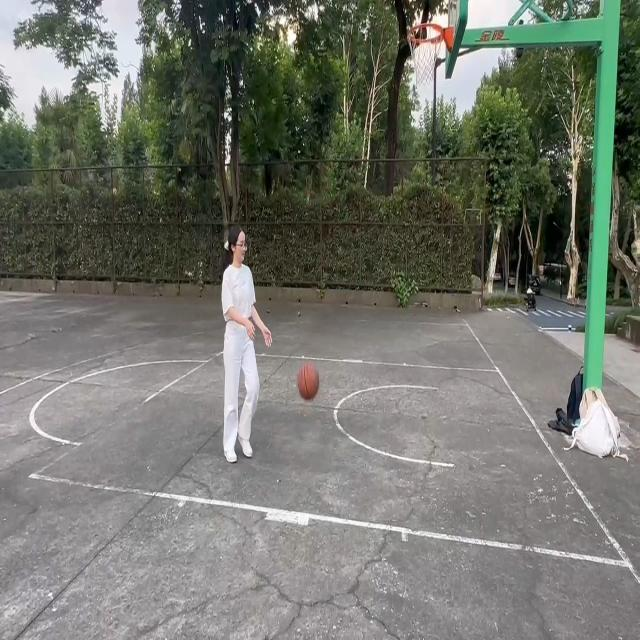basketball: (408, 22, 451, 93)
rim: (300, 364, 320, 402)
